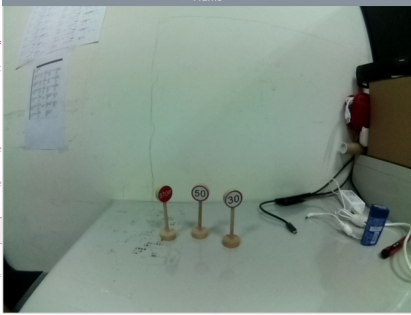Speed30: (221, 188, 244, 210)
Speed50: (190, 183, 209, 203)
Stop: (154, 184, 177, 205)
